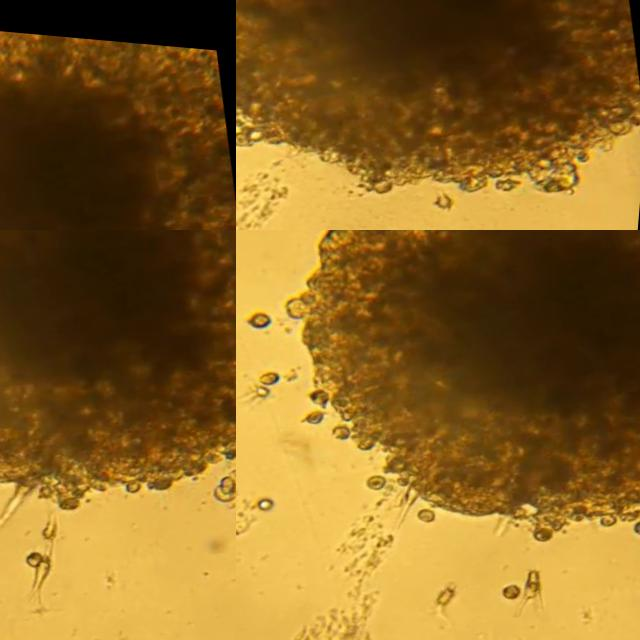cell: (521, 561, 547, 608), (42, 547, 57, 584), (252, 308, 278, 327), (219, 463, 236, 492), (439, 181, 457, 203), (507, 575, 527, 593), (441, 580, 461, 597), (262, 369, 284, 384), (49, 509, 63, 532), (262, 494, 280, 510), (371, 469, 390, 484), (502, 171, 525, 183), (422, 501, 439, 517), (32, 544, 49, 559), (307, 407, 325, 421), (255, 382, 270, 397), (389, 224, 406, 230)
tumor_mass: (287, 230, 640, 537), (0, 24, 236, 230)
